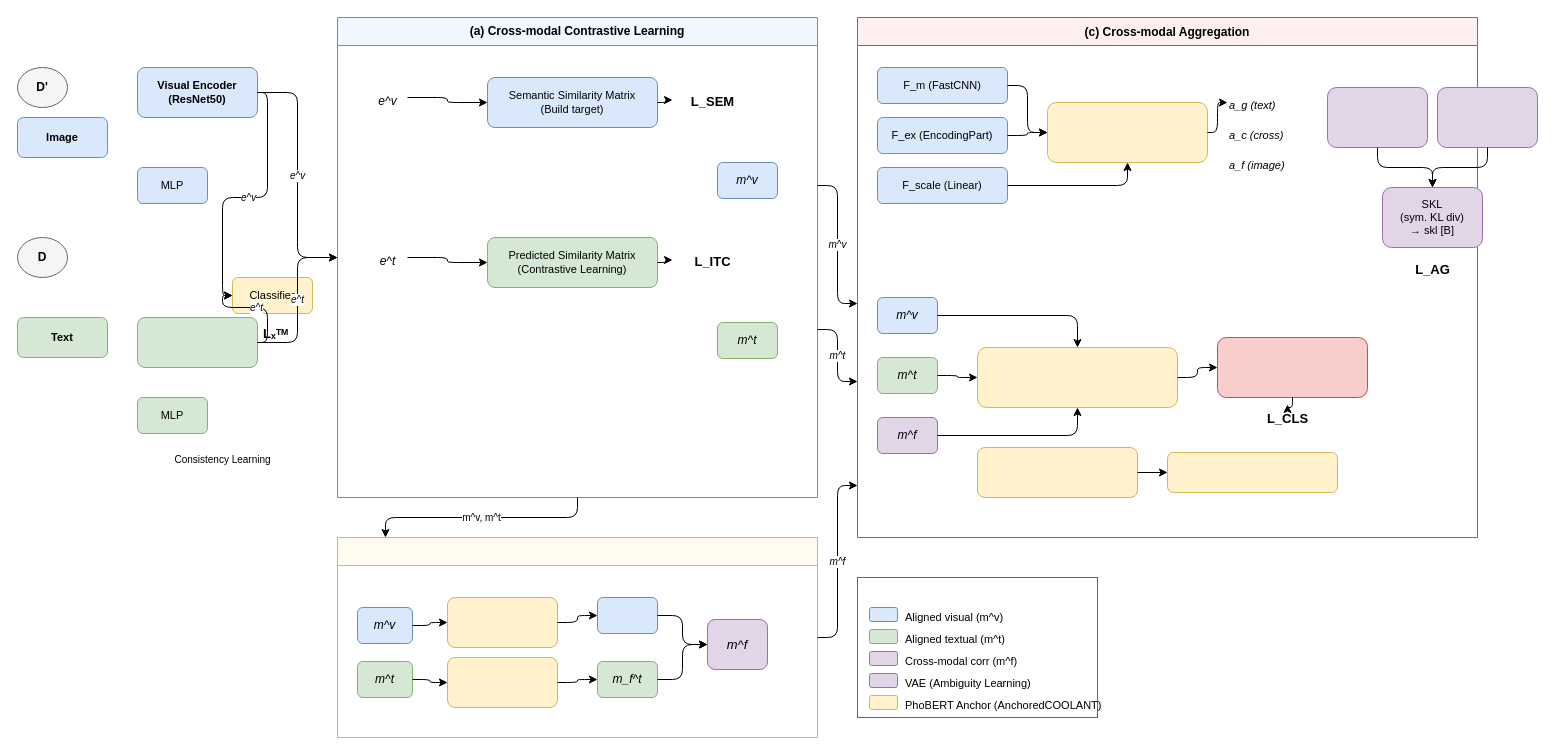
The diagram is 1555 pixels wide and 755 high, and some of its shapes have lost their labels. Each missing label, with the box of its shape:
(b) Cross-modal Fusion: (336, 536, 818, 738)
anchor_proj Linear(768→64)+BN+ReLU: (1166, 452, 1338, 492)
Attention Mechanism (SEAttentionModule): (1046, 102, 1208, 162)
Classifier GatedMLP → [B, 2]: (1216, 336, 1368, 398)
f_{t→v} CrossModule: (446, 596, 558, 648)
f_{v→t} CrossModule: (446, 656, 558, 708)
Legend: (856, 576, 1098, 718)
m_f^v: (596, 596, 658, 634)
PhoBERT CLS [B,768] (Stage 3.9 Anchor): (976, 446, 1138, 498)
Text Encoder (PhoBERT): (136, 316, 258, 368)
VAE Encoder_image p(z|m^t): (1436, 86, 1538, 148)
VAE Encoder_text p(z|m^v): (1326, 86, 1428, 148)
Weighted Fusion a_g·m^v + a_c·m^f + a_f·m^t [B, 160]: (976, 346, 1178, 408)
